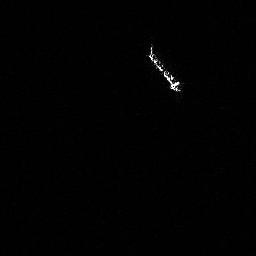ship: (144, 42, 185, 94)
